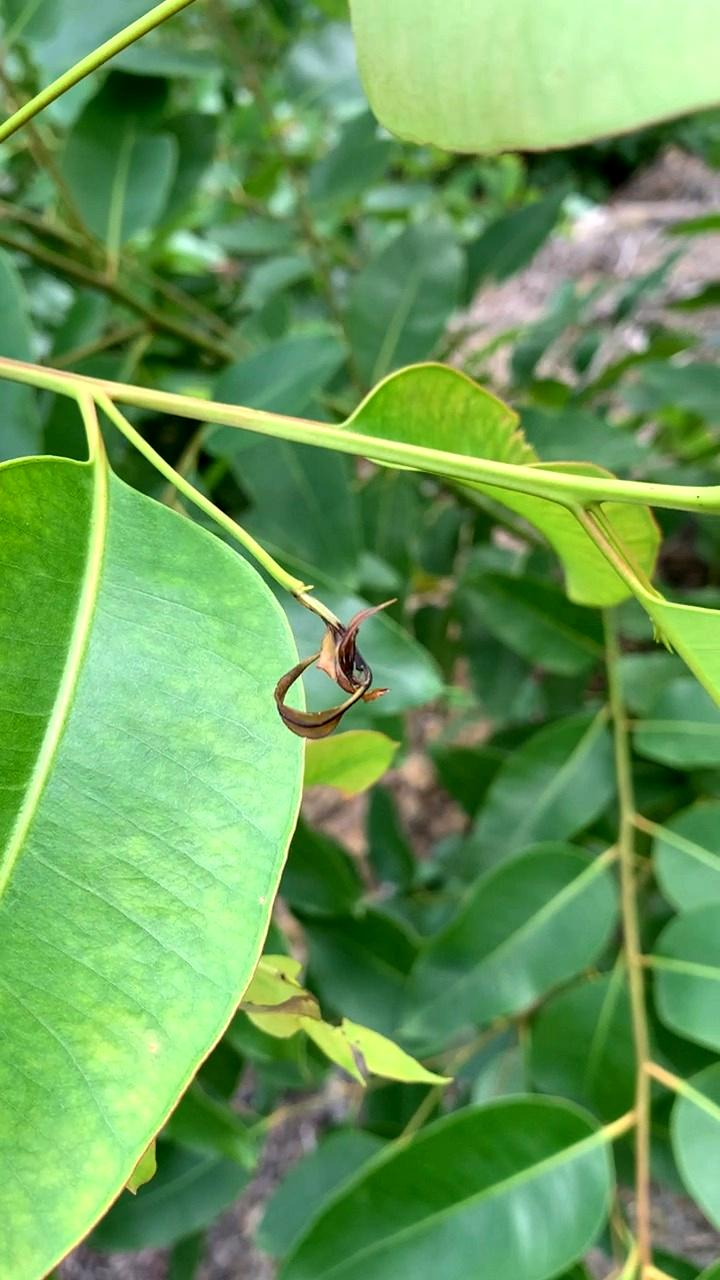Helopeltis-Withered Sprout: (261, 566, 415, 777)
